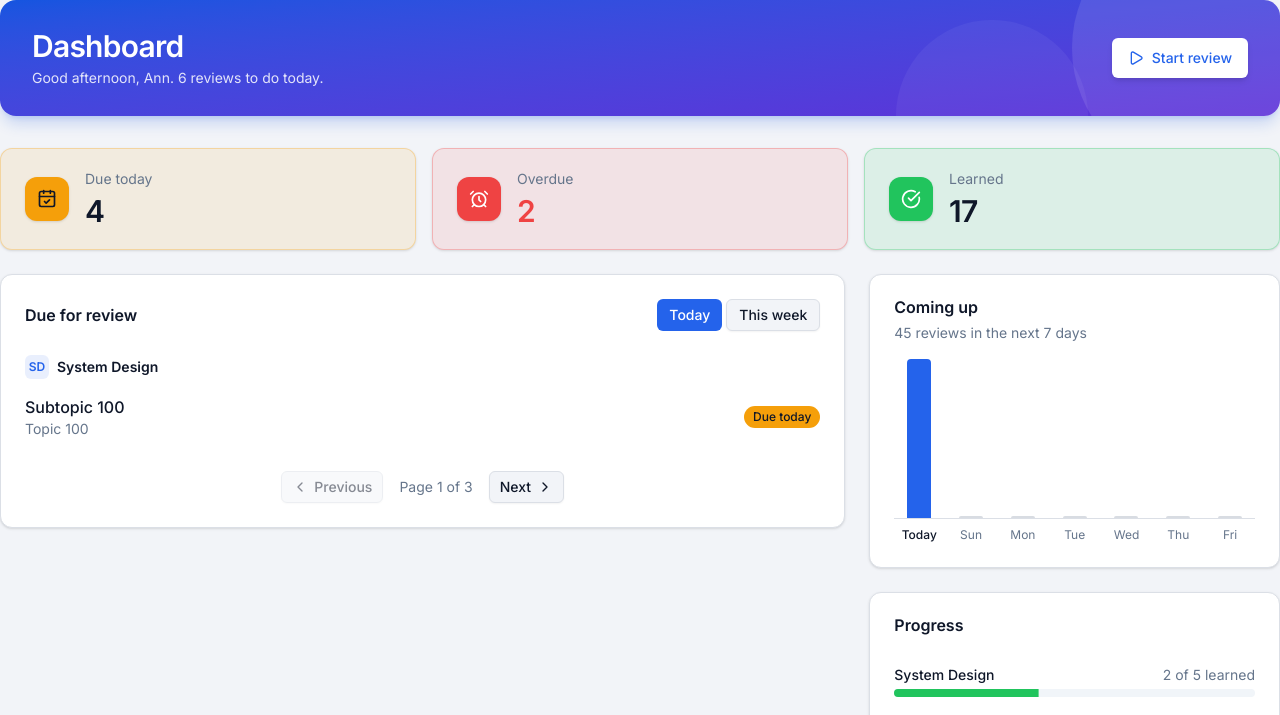
due list › pages through a long list, and goes back to the first page when the range changes
Expected: the text "Page 1 of 3" is shown, top-left (399, 477), bottom-right (473, 497)
Click the button "Next" at (526, 487), box top-left (489, 471), bottom-right (564, 503)
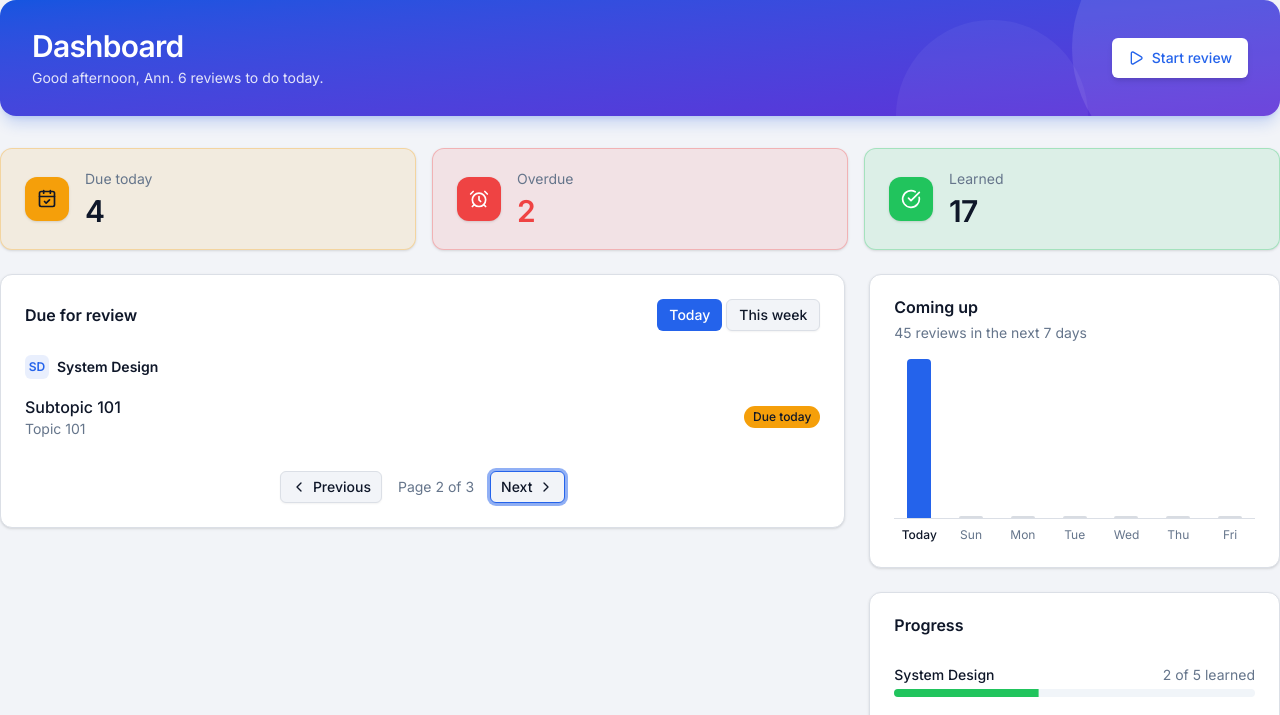
Expected: the text "Page 2 of 3" is shown, top-left (398, 477), bottom-right (474, 497)
Expected: the link "Subtopic 101" is shown, top-left (25, 397), bottom-right (121, 417)
Click the button "This week" at (773, 315), box top-left (726, 299), bottom-right (820, 331)
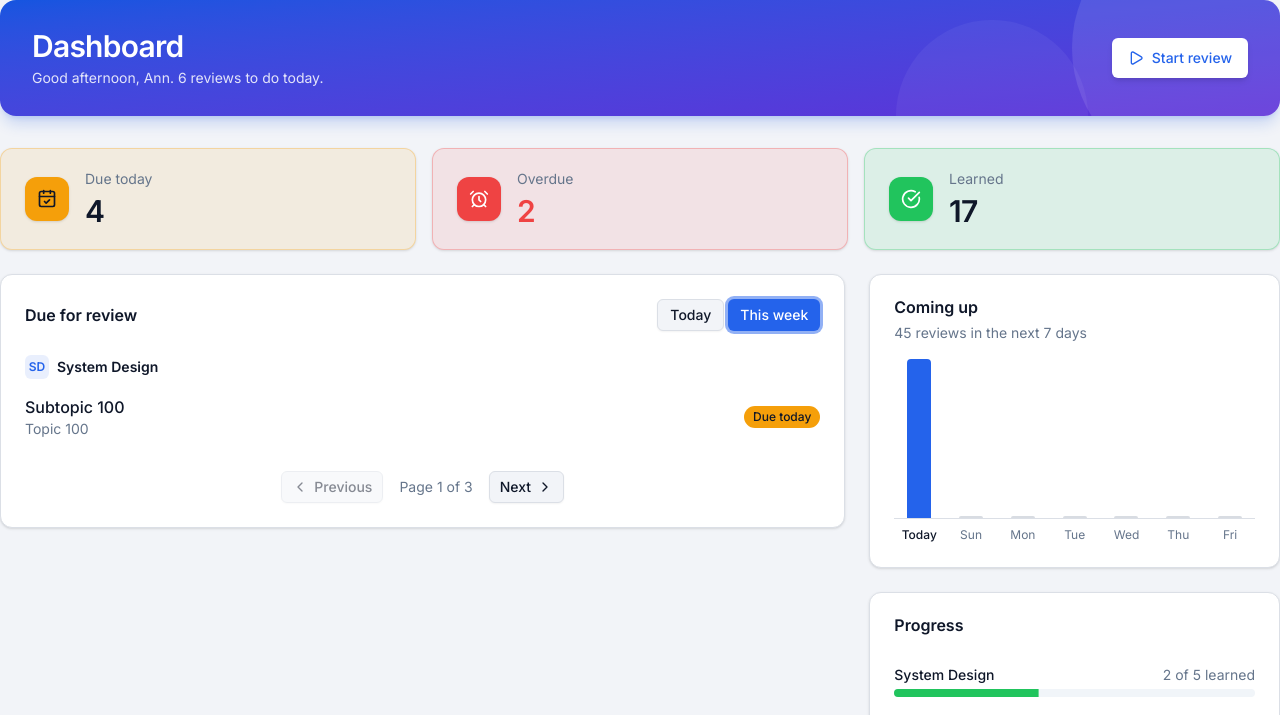
Expected: the text "Page 1 of 3" is shown, top-left (399, 477), bottom-right (473, 497)
